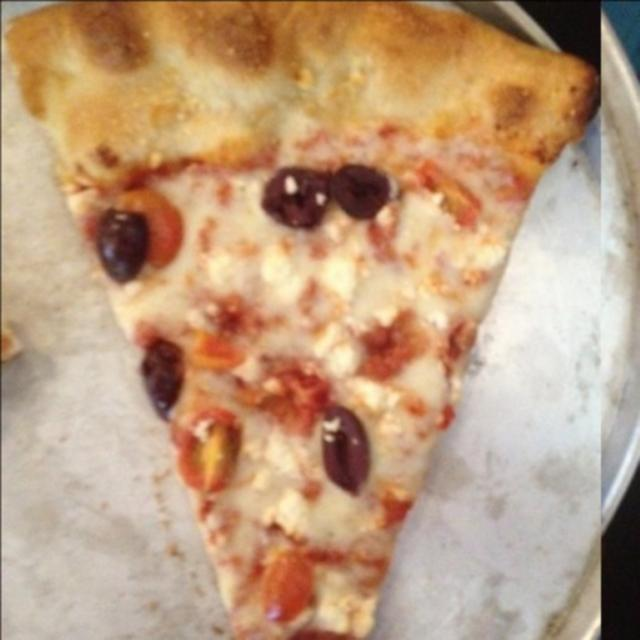olive: (258, 412, 330, 476), (319, 143, 367, 233), (94, 356, 146, 432), (137, 223, 184, 303), (328, 421, 388, 477)
pizza: (0, 0, 600, 640)
